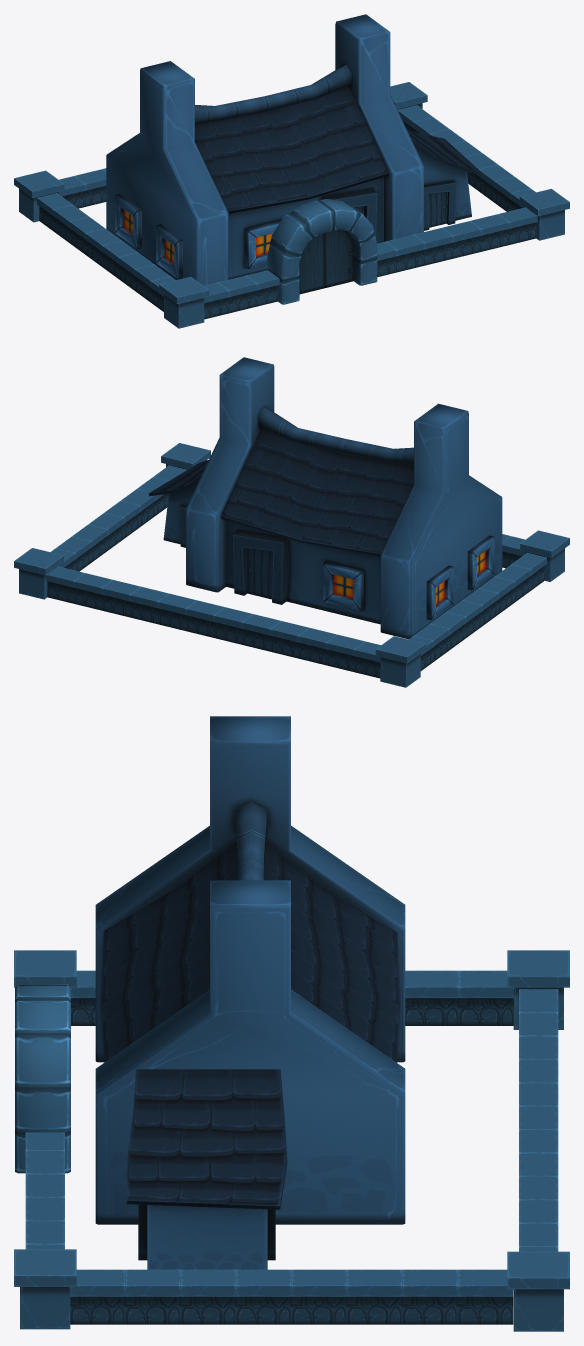
File: House5.FBX
3 renders of one model, top to bottom at view 1: azimuth 30°, elevation 25°; view 2: azimuth 150°, elevation 25°; view 3: azimuth 270°, elevation 25°, orthographic. The views are drawn at different scales.
Parts seen in each view (by area): view 1: House5, House5_Gate; view 2: House5, House5_Gate; view 3: House5, House5_Gate.
Part boxes in pixels (x1=…): House5: x1=106, y1=14, x2=482, y2=285; House5_Gate: x1=14, y1=82, x2=569, y2=328; House5: x1=148, y1=357, x2=502, y2=639; House5_Gate: x1=14, y1=443, x2=569, y2=687; House5: x1=95, y1=716, x2=405, y2=1269; House5_Gate: x1=14, y1=950, x2=569, y2=1331.
Bounding box in the file's own units: 349 × 162 × 250.
